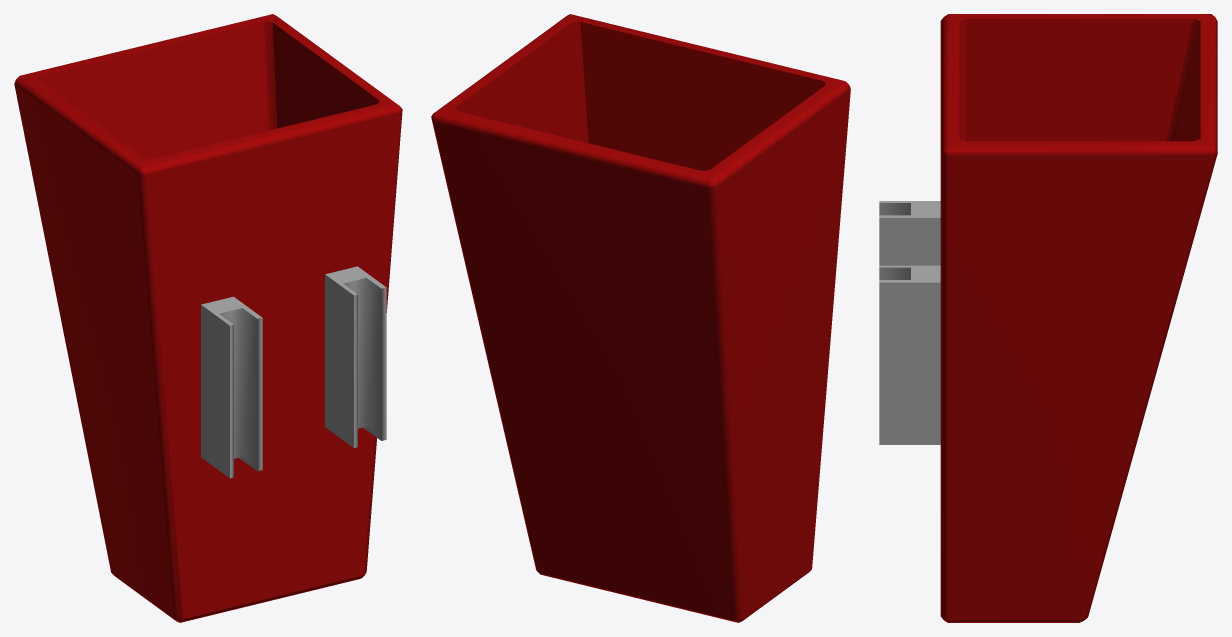
File: trashcan.fbx
3 views of the same model, side by side, from view 1: azimuth 30°, elevation 25°; view 2: azimuth 150°, elevation 25°; view 3: azimuth 270°, elevation 25° (orthographic). The views are drawn at different scales.
Parts seen in each view (by area): view 1: trashcan_can, trashcan_hinge; view 2: trashcan_can; view 3: trashcan_can, trashcan_hinge.
Boxes of the visible parts, <box> form: trashcan_can: <box>14,14,402,622</box>; trashcan_hinge: <box>201,266,386,478</box>; trashcan_can: <box>431,14,850,622</box>; trashcan_can: <box>940,14,1217,622</box>; trashcan_hinge: <box>879,201,940,444</box>.
Size of the model in its own units: 0.018 by 0.0302 by 0.0187.
